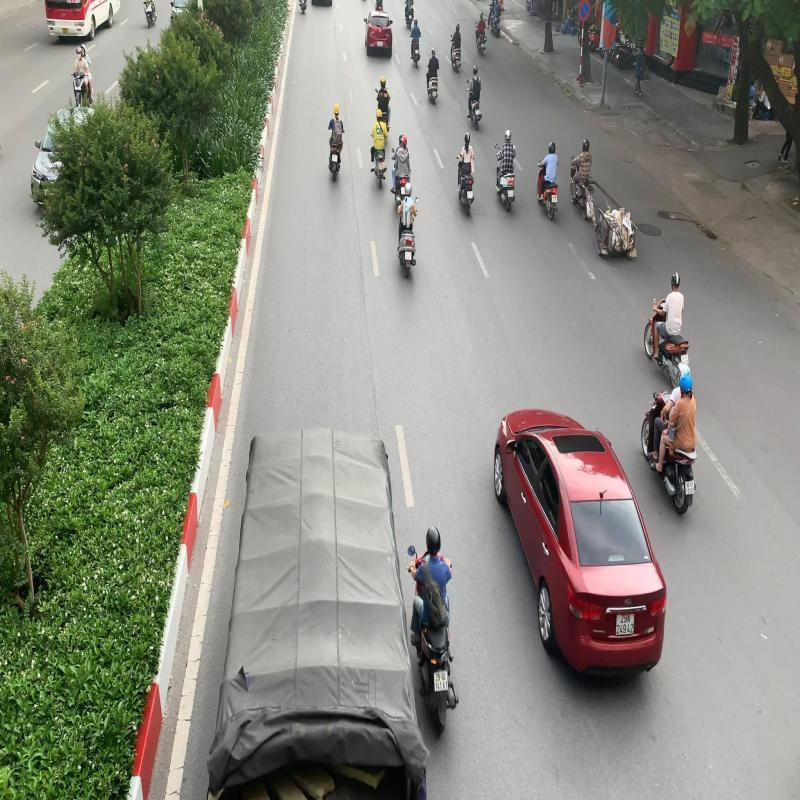helmet: (424, 523, 442, 558), (678, 370, 694, 396), (678, 360, 691, 379)
licenseplate: (432, 668, 450, 694), (684, 478, 696, 496)
motorcyclist: (404, 522, 461, 743), (640, 361, 702, 515)
